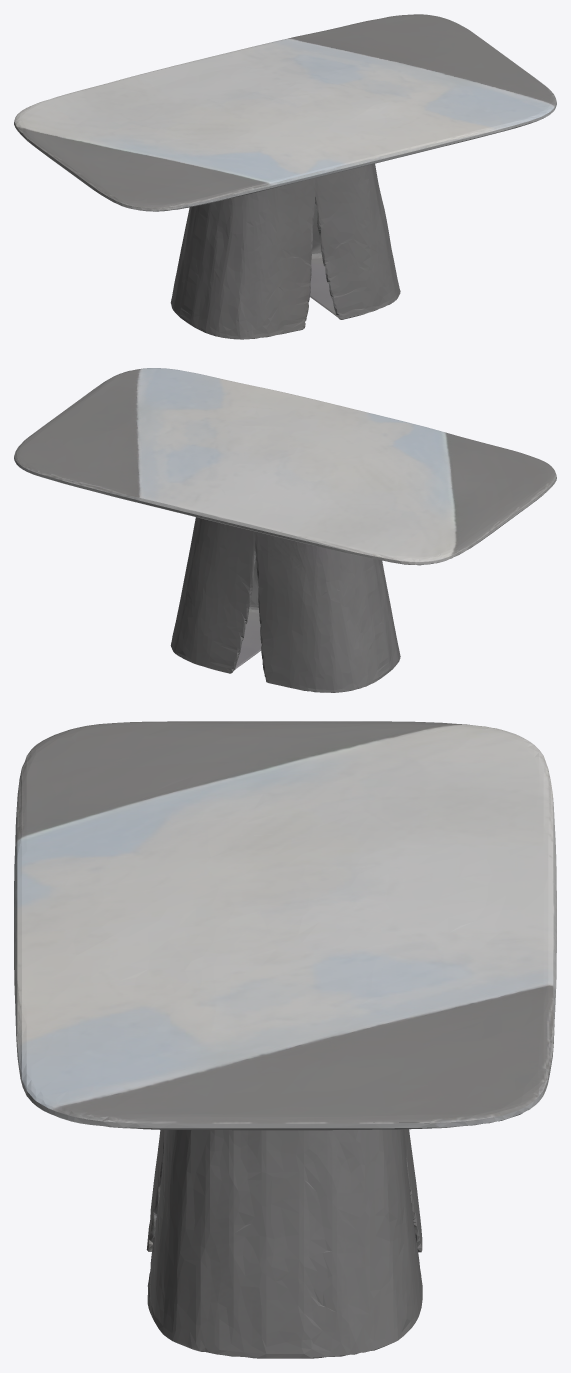
Rendered from supermat_pbr.glb.
3 views of the same model, one above another, from view 1: azimuth 30°, elevation 25°; view 2: azimuth 150°, elevation 25°; view 3: azimuth 270°, elevation 25° (orthographic). The views are drawn at different scales.
Parts seen in each view (by area): view 1: world; view 2: world; view 3: world.
Part boxes in pixels (x1=…): world: x1=14, y1=14, x2=556, y2=339; world: x1=14, y1=368, x2=556, y2=692; world: x1=14, y1=721, x2=556, y2=1358.
Bounding box in the file's own units: 1 × 0.4209 × 0.5706.
Materials: 1 (1 with a texture image).
